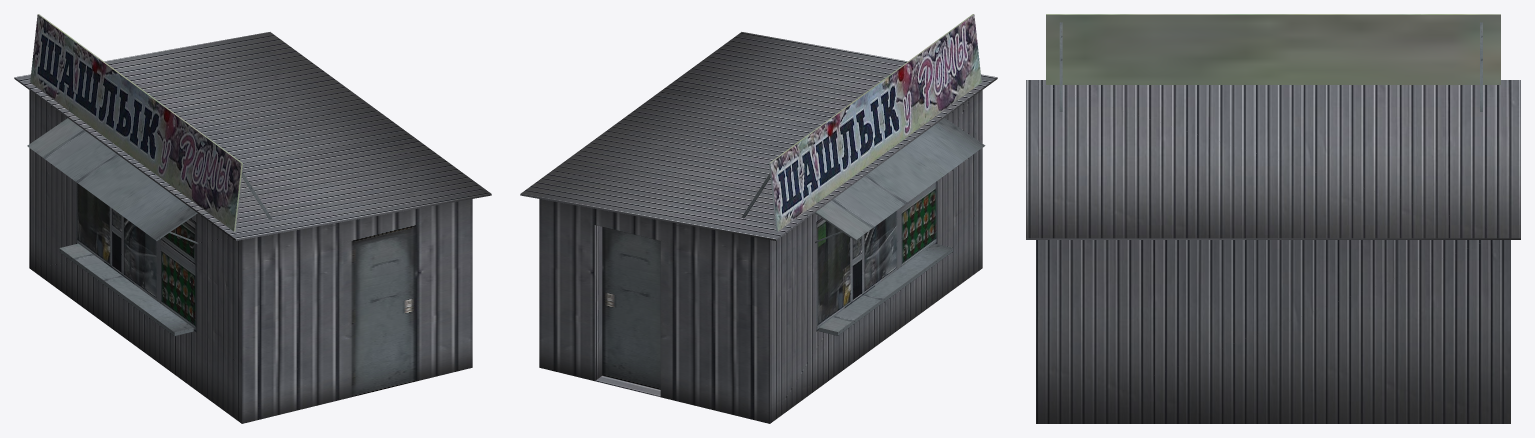
File: Larek.fbx
The picture shows the model from 3 angles, left to right: view 1: azimuth 30°, elevation 25°; view 2: azimuth 150°, elevation 25°; view 3: azimuth 270°, elevation 25°; orthographic projection. The views are drawn at different scales.
Visible parts, largest first — view 1: Box001; view 2: Box001; view 3: Box001.
Part boxes in pixels (box(x1,y1,x2,y2)): Box001: box(14, 14, 491, 423); Box001: box(520, 14, 997, 423); Box001: box(1026, 14, 1520, 423).
Size of the model in its own units: 3.87 by 3.27 by 5.13.
1 material, 1 textured.
